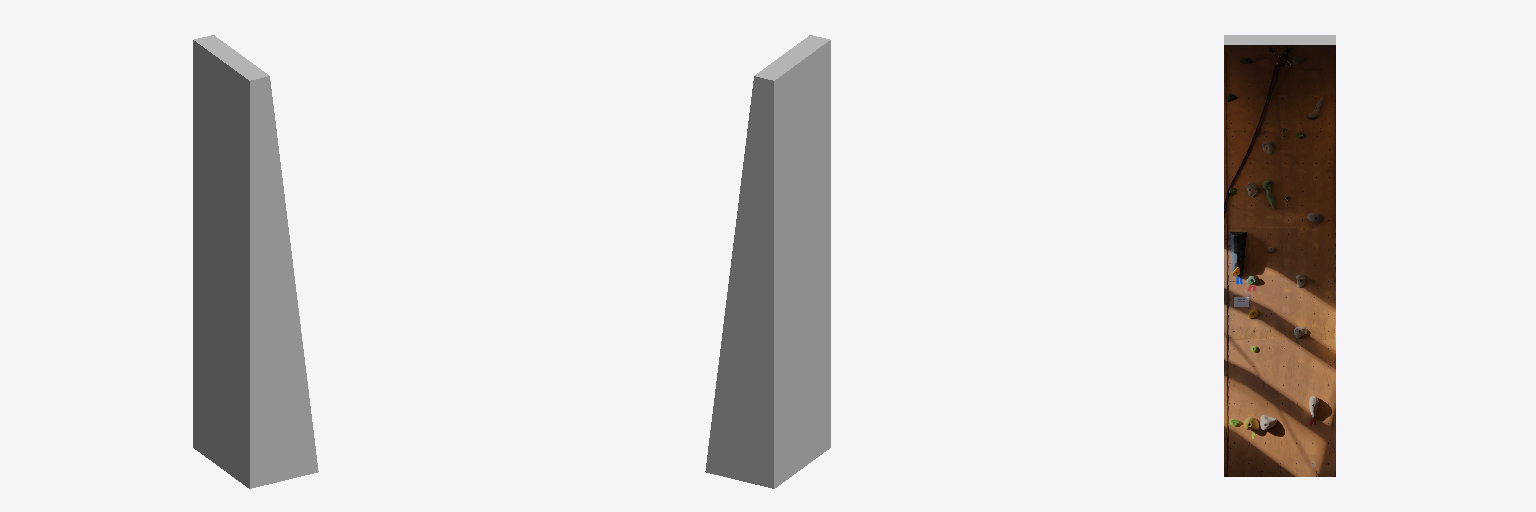
3 renders of one model, left to right at view 1: azimuth 30°, elevation 25°; view 2: azimuth 150°, elevation 25°; view 3: azimuth 270°, elevation 25°, orthographic.
Parts seen in each view (by area): view 1: Cube; view 2: Cube; view 3: Cube.
Boxes of the visible parts, box(x1,y1,x2,y2) form: Cube: box(193, 35, 318, 488); Cube: box(705, 35, 830, 488); Cube: box(1224, 35, 1335, 476).
Size of the model in its own units: 0.85 by 4.8 by 1.2.
Materials: 2 (1 with a texture image).